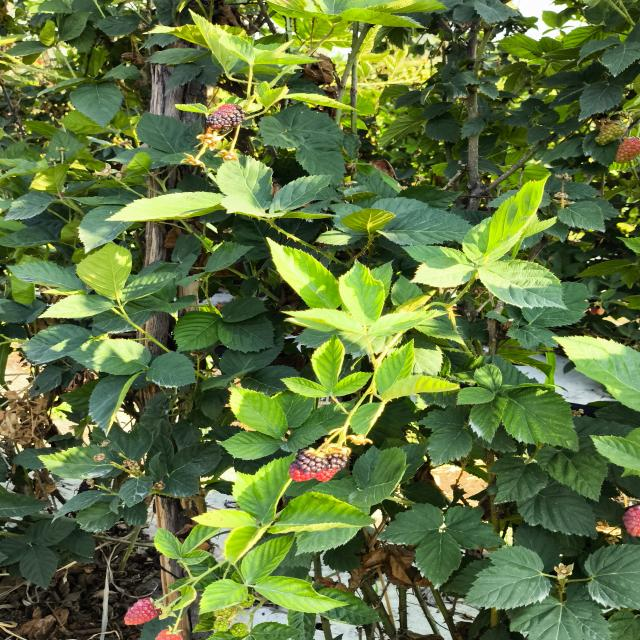marron: (289, 449, 329, 481), (206, 104, 246, 129), (325, 447, 350, 472)
naranja: (124, 598, 160, 625), (615, 137, 640, 163), (623, 504, 640, 537), (155, 628, 182, 640)
verde: (595, 121, 626, 145), (214, 605, 236, 620), (229, 623, 248, 638), (238, 594, 255, 608), (213, 618, 229, 631)
